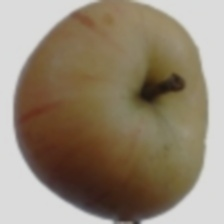apple: (6, 13, 182, 173)
